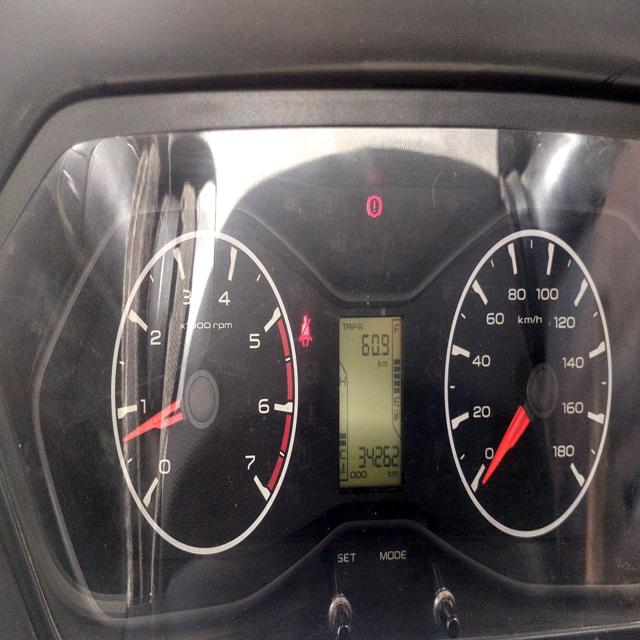odometer: (358, 443, 399, 469)
